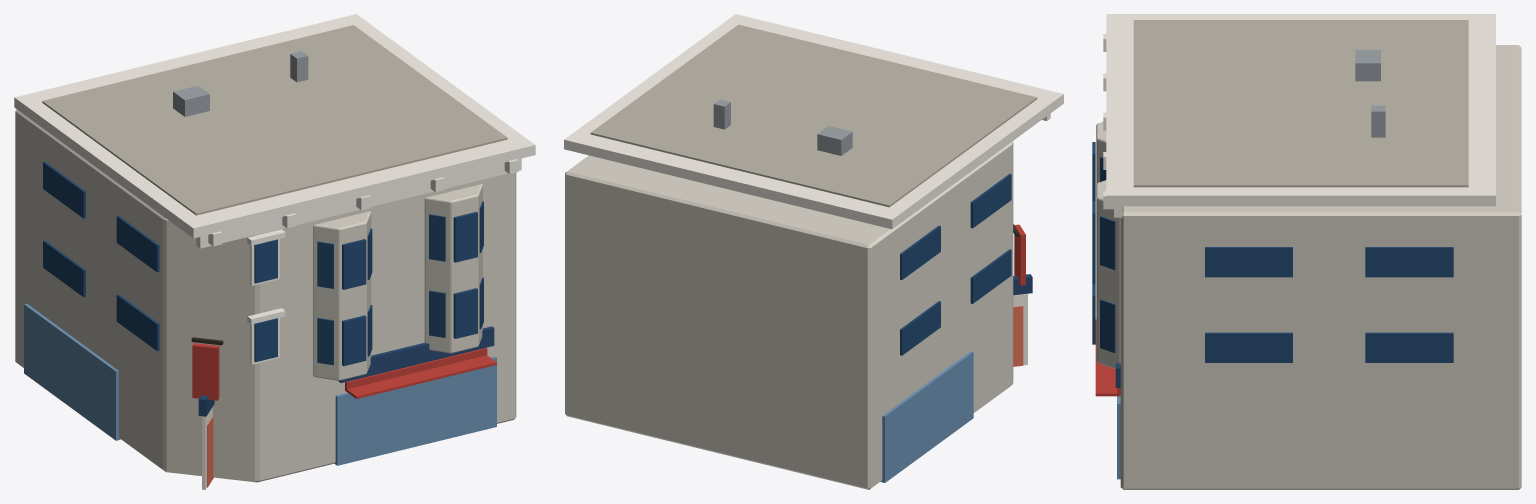
File: liquor_corner_l.glb
3 views of the same model, side by side, from view 1: azimuth 30°, elevation 25°; view 2: azimuth 150°, elevation 25°; view 3: azimuth 270°, elevation 25° (orthographic). The views are drawn at different scales.
Visible parts, largest first — view 1: lwalls, roofslab, corn, shopf, shops, bay.001, bay, frieze, fascia, awn, blade, sb (+15 smaller); view 2: lwalls, roofslab, corn, shops, sb, sb.004, sb.002, sb.006, hvac, cdoor, blade; view 3: lwalls, roofslab, corn, sb.003, sb.007, sb.001, sb.005, bay.001, hvac, bwa.007, bwa.005, awn (+1 smaller).
Part boxes in pixels (x1=…): lwalls: x1=15, y1=109, x2=516, y2=482; roofslab: x1=42, y1=25, x2=507, y2=215; corn: x1=14, y1=14, x2=535, y2=238; shopf: x1=334, y1=356, x2=496, y2=465; shops: x1=24, y1=303, x2=120, y2=440; bay.001: x1=424, y1=184, x2=482, y2=353; bay: x1=313, y1=211, x2=371, y2=380; frieze: x1=196, y1=158, x2=521, y2=248; fascia: x1=338, y1=326, x2=494, y2=382; awn: x1=345, y1=355, x2=496, y2=398; blade: x1=192, y1=343, x2=219, y2=400; sb: x1=116, y1=294, x2=159, y2=351; lwalls: x1=565, y1=141, x2=1013, y2=489; roofslab: x1=590, y1=24, x2=1037, y2=207; corn: x1=564, y1=14, x2=1063, y2=229; shops: x1=880, y1=351, x2=973, y2=482; sb: x1=970, y1=249, x2=1011, y2=303; sb.004: x1=970, y1=173, x2=1011, y2=228; sb.002: x1=900, y1=301, x2=940, y2=355; sb.006: x1=900, y1=225, x2=940, y2=279; hvac: x1=817, y1=126, x2=852, y2=155; cdoor: x1=1013, y1=306, x2=1023, y2=366; blade: x1=1014, y1=224, x2=1025, y2=285; lwalls: x1=1120, y1=45, x2=1521, y2=489; roofslab: x1=1133, y1=20, x2=1468, y2=187; corn: x1=1106, y1=14, x2=1495, y2=206; sb.003: x1=1365, y1=332, x2=1453, y2=362; sb.007: x1=1365, y1=247, x2=1453, y2=277; sb.001: x1=1205, y1=332, x2=1292, y2=362; sb.005: x1=1205, y1=247, x2=1292, y2=277; bay.001: x1=1096, y1=180, x2=1120, y2=368; hvac: x1=1355, y1=50, x2=1380, y2=81; bwa.007: x1=1100, y1=216, x2=1115, y2=269; bwa.005: x1=1100, y1=299, x2=1115, y2=352; awn: x1=1095, y1=319, x2=1120, y2=396.
Bounding box in the file's own units: 15 × 12.7 × 14.99.
